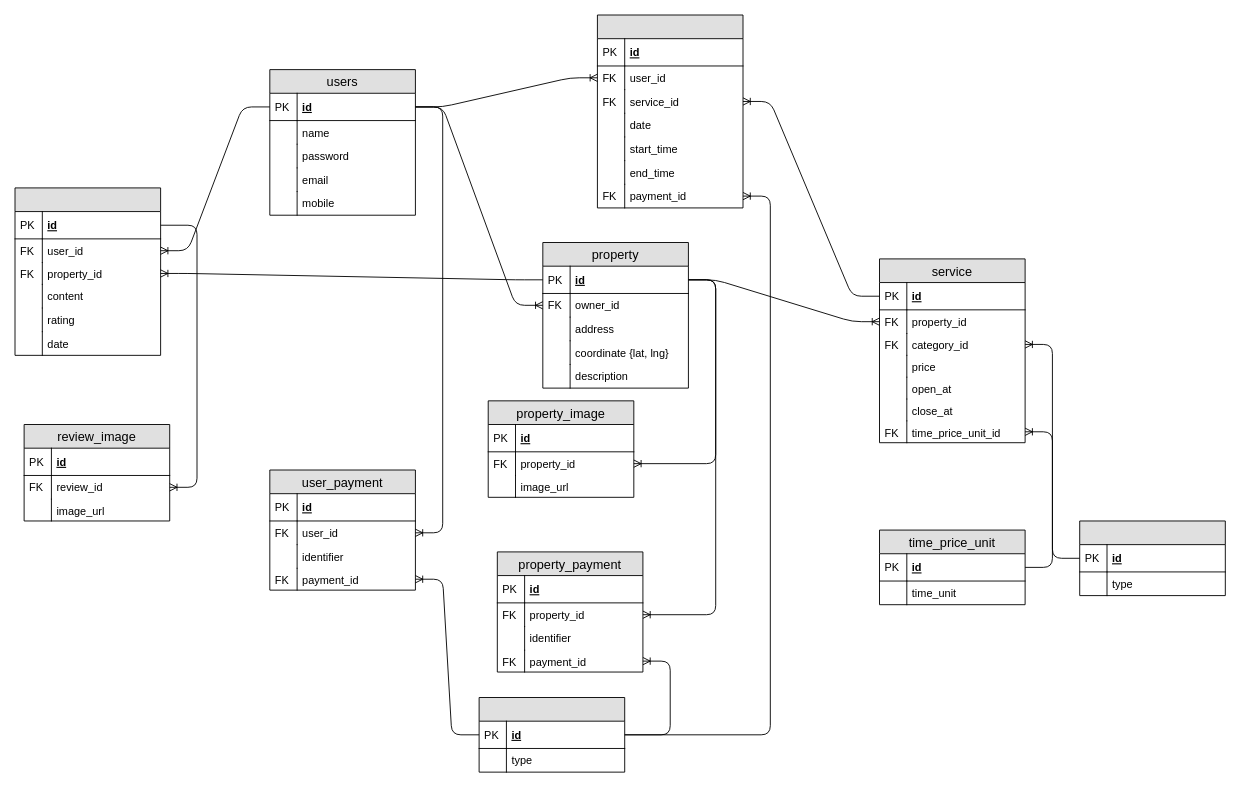
Some shapes in this 1240 by 787 pixel diagram are drawn without their labels. Here are the shapes that lost their labels. From the top down, the box of each, then its label:
(597, 14, 743, 208): booking
(14, 187, 161, 355): review
(1079, 520, 1225, 596): category
(478, 697, 625, 772): payment
